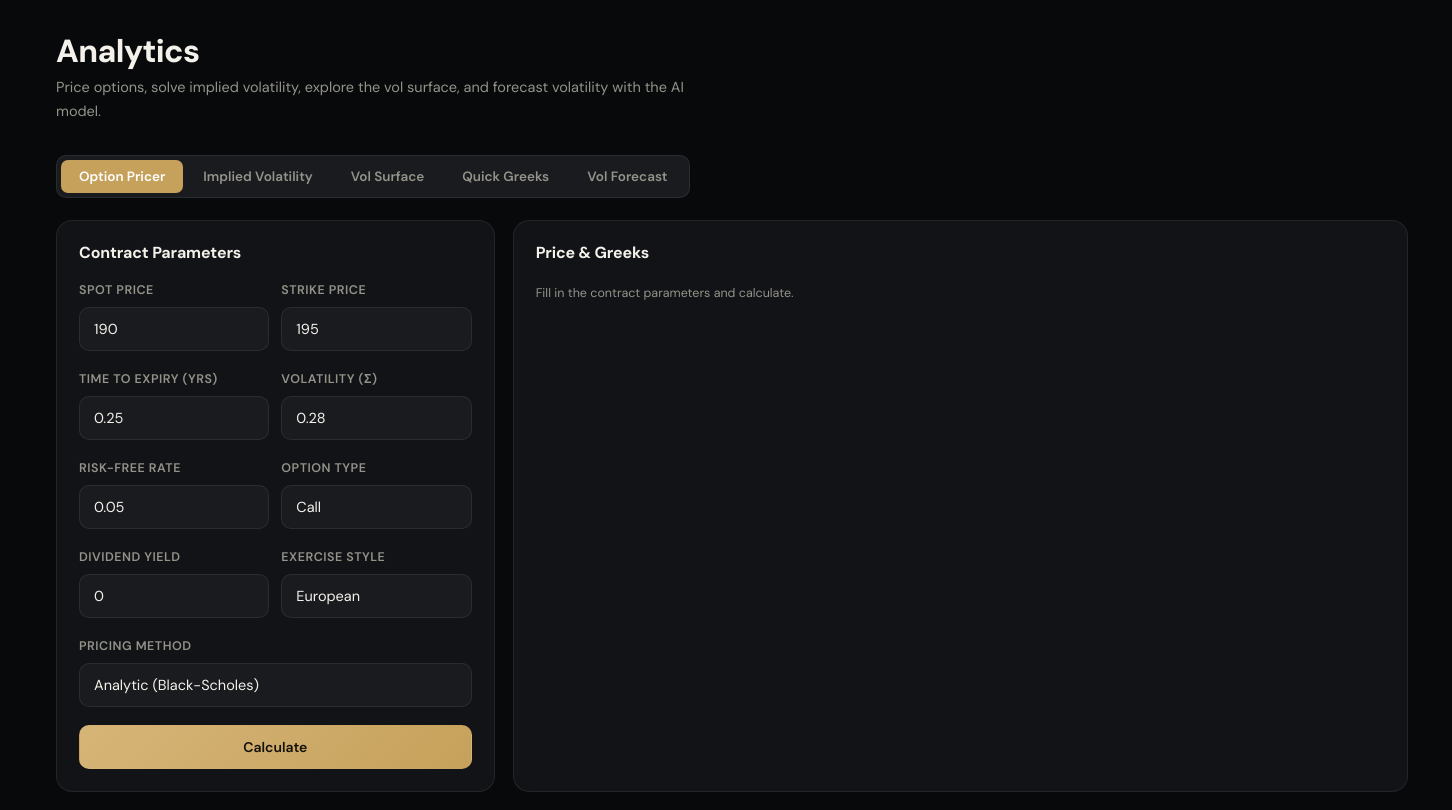
Test: tabs › switches to Implied Volatility
The image size is (1452, 810).
Click the button "Implied Volatility".
click(258, 176)  # box [185, 160, 331, 193]
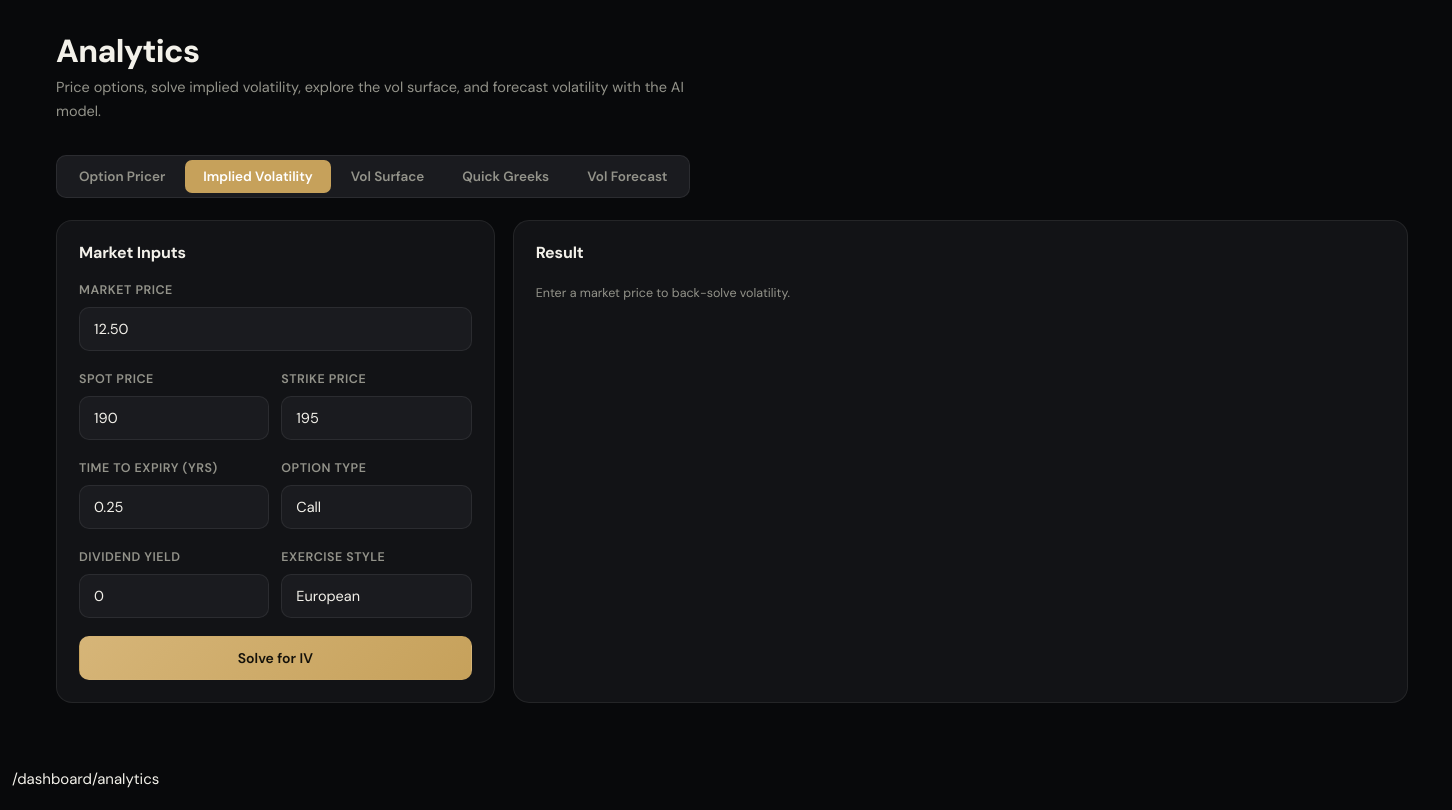
Result: the heading "Market Inputs" is shown at [79, 243, 186, 262]
